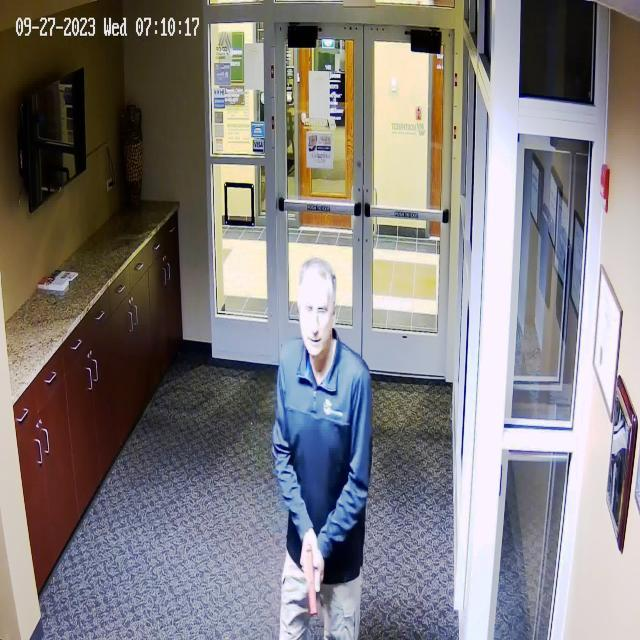Gun: (288, 533, 342, 625)
